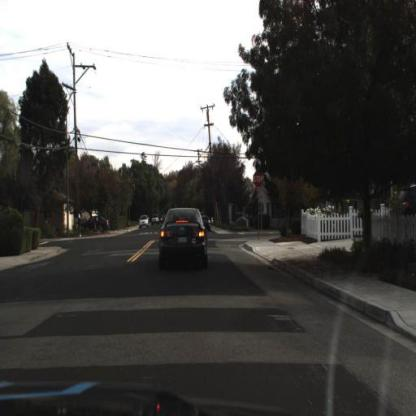car: (158, 206, 208, 266), (80, 214, 111, 233), (134, 206, 149, 230), (200, 212, 214, 233), (148, 208, 160, 226)
